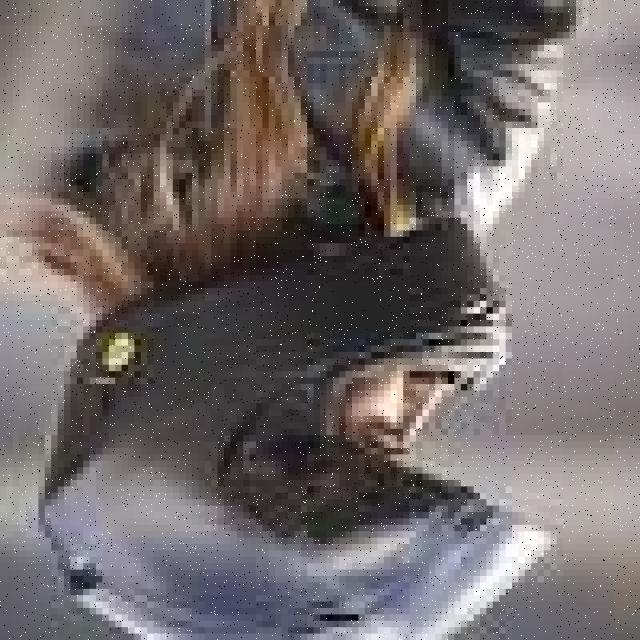Helmet: (44, 223, 548, 640)
